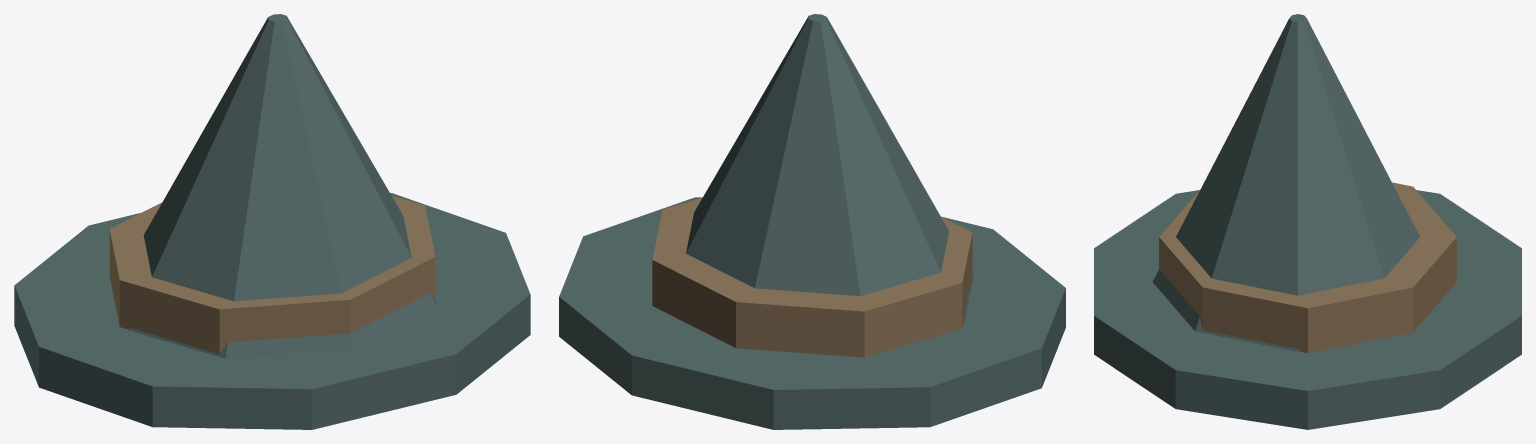
File: Pawn_MageHat.fbx
3 views of the same model, side by side, from view 1: azimuth 30°, elevation 25°; view 2: azimuth 150°, elevation 25°; view 3: azimuth 270°, elevation 25° (orthographic). The views are drawn at different scales.
Visible parts, largest first — view 1: Pawn_MageHat; view 2: Pawn_MageHat; view 3: Pawn_MageHat.
Boxes of the visible parts, <box> form: Pawn_MageHat: <box>14,14,530,429</box>; Pawn_MageHat: <box>559,14,1065,429</box>; Pawn_MageHat: <box>1094,14,1521,429</box>.
Bounding box in the file's own units: 0.78 × 0.505 × 0.6467.
